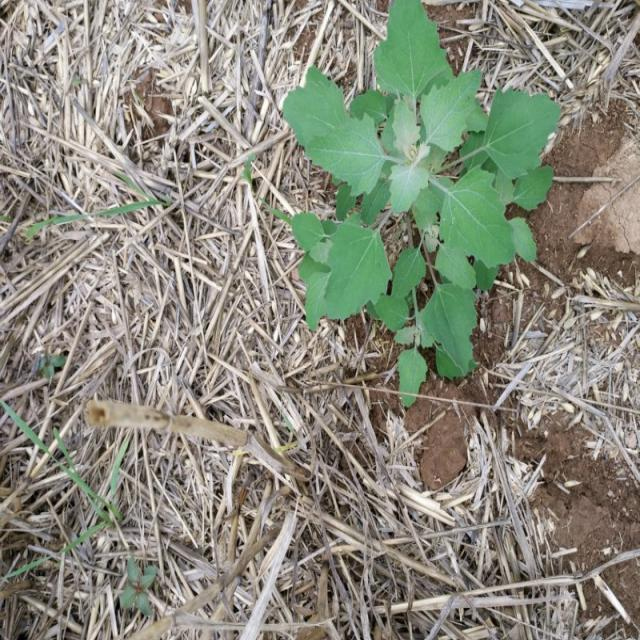ca: (282, 0, 563, 405)
